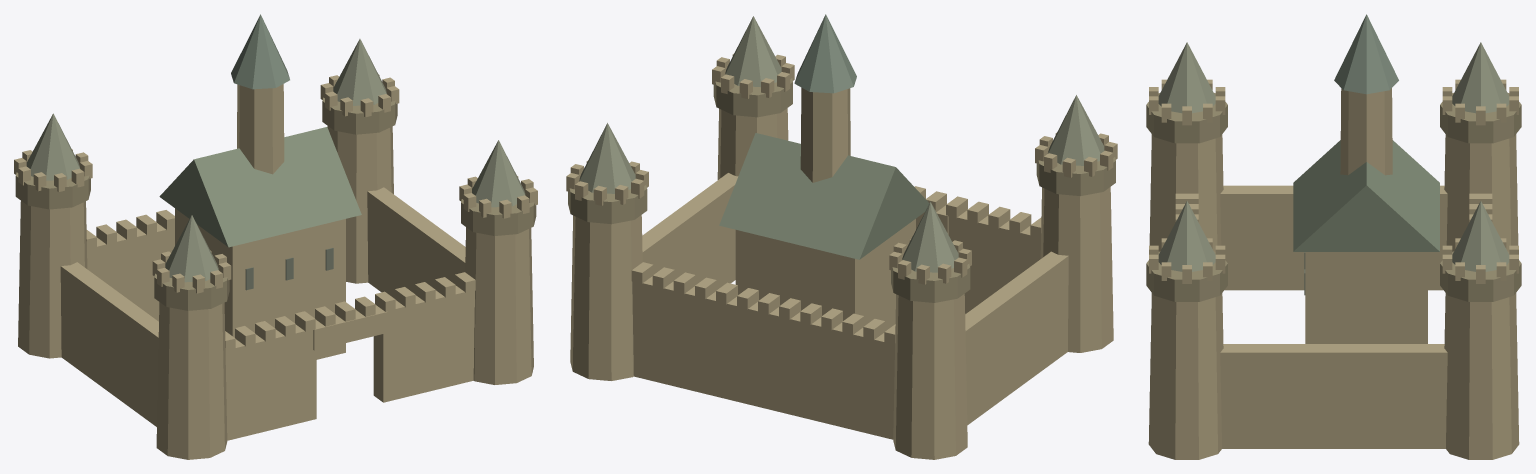
File: castle.glb
The picture shows the model from 3 angles, left to right: view 1: azimuth 30°, elevation 25°; view 2: azimuth 150°, elevation 25°; view 3: azimuth 270°, elevation 25°; orthographic projection. The views are drawn at different scales.
Visible parts, largest first — view 1: castle; view 2: castle; view 3: castle.
Boxes of the visible parts, x1=… form: castle: x1=14, y1=14, x2=537, y2=459; castle: x1=566, y1=14, x2=1117, y2=459; castle: x1=1146, y1=14, x2=1521, y2=459.
Size of the model in its own units: 55.8 by 47.5 by 46.
